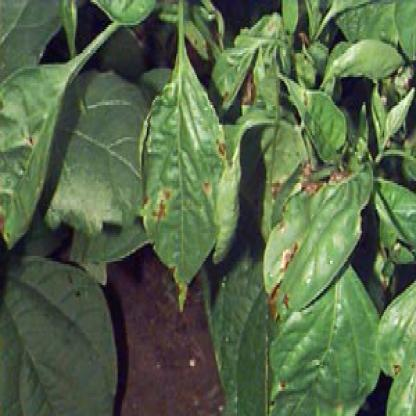bell pepper leaf spot: (129, 64, 226, 316), (257, 158, 377, 331), (1, 62, 83, 248)
